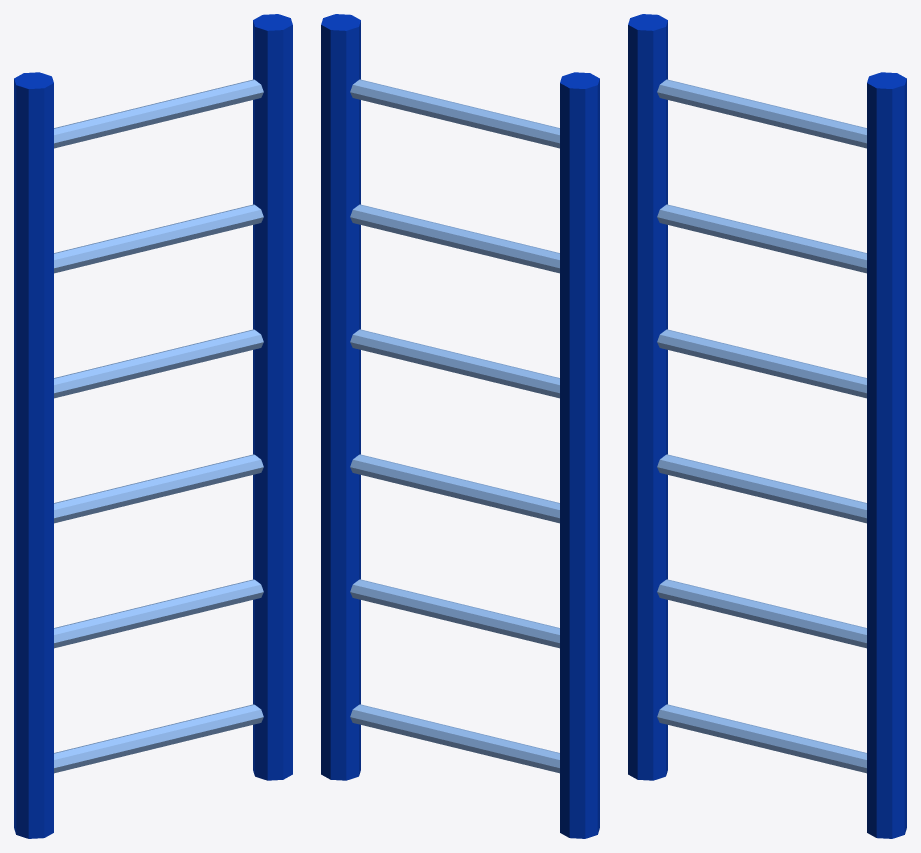
The model's file is Low_Poly_Ladder_02_Small.obj.
3 renders of one model, left to right at view 1: azimuth 30°, elevation 25°; view 2: azimuth 150°, elevation 25°; view 3: azimuth 330°, elevation 25°, orthographic.
Visible parts, largest first — view 1: Low_Poly_Ladder_02_Small_Circle.001; view 2: Low_Poly_Ladder_02_Small_Circle.001; view 3: Low_Poly_Ladder_02_Small_Circle.001.
Boxes of the visible parts, bbox=[...] form: Low_Poly_Ladder_02_Small_Circle.001: bbox=[14, 14, 292, 838]; Low_Poly_Ladder_02_Small_Circle.001: bbox=[321, 14, 599, 838]; Low_Poly_Ladder_02_Small_Circle.001: bbox=[628, 14, 906, 838].
Bounding box in the file's own units: 2.3 × 6 × 0.3.
